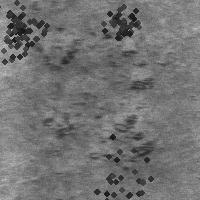rolled-in_scale: (32, 105, 163, 173), (72, 30, 164, 117), (65, 136, 175, 200), (25, 35, 91, 136), (0, 0, 55, 66), (98, 0, 144, 45)
